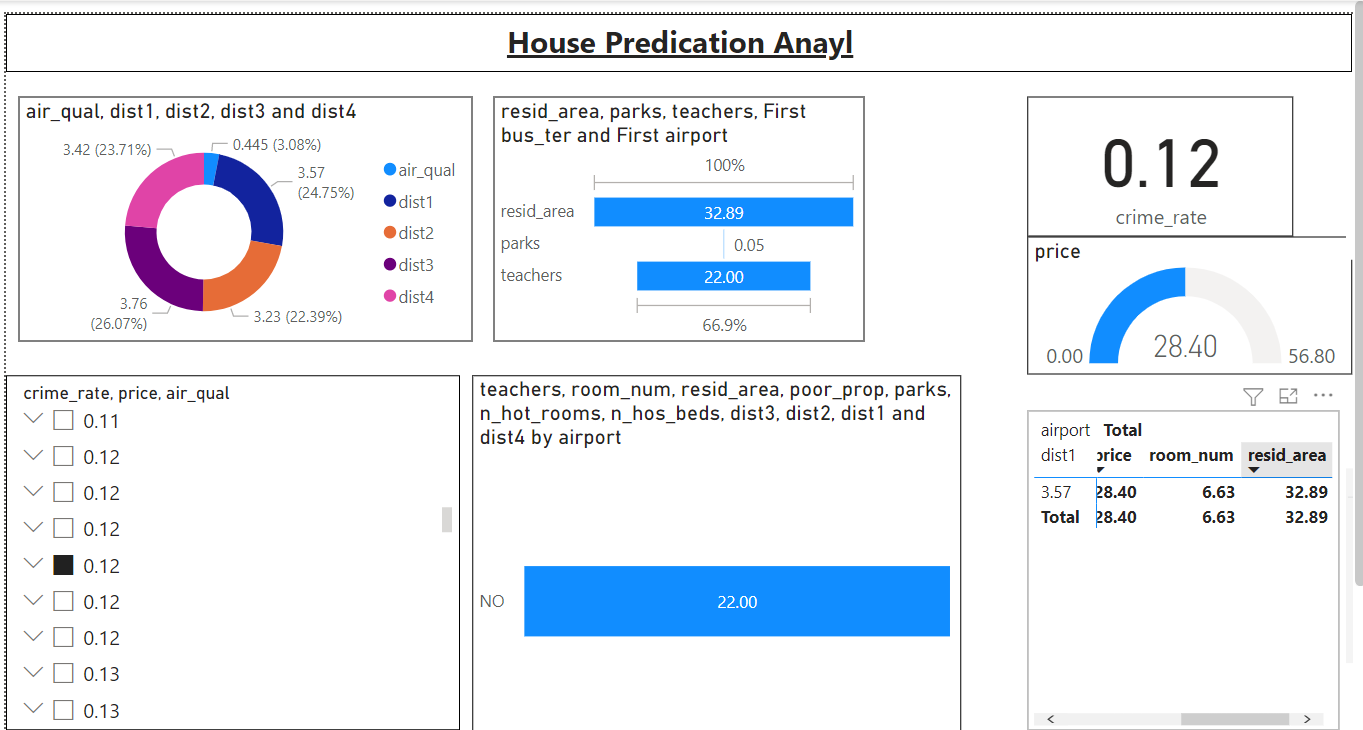

Layout of this report page (visuals, bound fields, positions):
{"tool":"powerbi","page":{"name":"Page 3","canvas":[1280,720],"ordinal":2},"visuals":[{"type":"pivotTable","fields":{"Rows":["House_Price.dist1"],"Values":["Sum(House_Price.price)","Sum(House_Price.room_num)","Sum(House_Price.resid_area)"],"Columns":["House_Price.airport"]},"box":[817,317,250,256],"z":0},{"type":"funnel","fields":{"Y":["Sum(House_Price.resid_area)","Sum(House_Price.parks)","Sum(House_Price.teachers)"]},"box":[390,66,297,196],"z":1000},{"type":"gauge","fields":{"Y":["Sum(House_Price.price)"]},"box":[817,178,260,111],"z":2000},{"type":"card","fields":{"Values":["Sum(House_Price.crime_rate)"]},"box":[817,66,213,112],"z":3000},{"type":"textbox","box":[0,0,1077,47],"z":4000},{"type":"multiRowCard","box":[1072,47,208,150],"z":5000},{"type":"donutChart","fields":{"Y":["Sum(House_Price.air_qual)","Sum(House_Price.dist1)","Sum(House_Price.dist2)","Sum(House_Price.dist3)","Sum(House_Price.dist4)"]},"box":[10,66,363,196],"z":6000},{"type":"slicer","box":[1072,309,208,227],"z":7000},{"type":"slicer","fields":{"Values":["House_Price.crime_rate","House_Price.price","House_Price.air_qual"]},"box":[0,289,363,284],"z":8000},{"type":"funnel","fields":{"Category":["House_Price.airport","House_Price.bus_ter"],"Y":["Sum(House_Price.teachers)"]},"box":[373,289,391,302],"z":8001}]}

Visuals, with their boxes on the page's 1280x720 design canvas (x1, y1, x2, y2). These are canvas units, not pixel positions in the 1363x730 screenshot, which may show the page scaled, cropped or inside an application window:
pivotTable - House_Price.dist1 x Sum(House_Price.price): 817/317/1067/573
funnel - Sum(House_Price.resid_area) x Sum(House_Price.parks): 390/66/687/262
gauge - Sum(House_Price.price): 817/178/1077/289
card - Sum(House_Price.crime_rate): 817/66/1030/178
textbox: 0/0/1077/47
multiRowCard: 1072/47/1280/197
donutChart - Sum(House_Price.air_qual) x Sum(House_Price.dist1): 10/66/373/262
slicer: 1072/309/1280/536
slicer - House_Price.crime_rate x House_Price.price: 0/289/363/573
funnel - House_Price.airport x House_Price.bus_ter: 373/289/764/591
